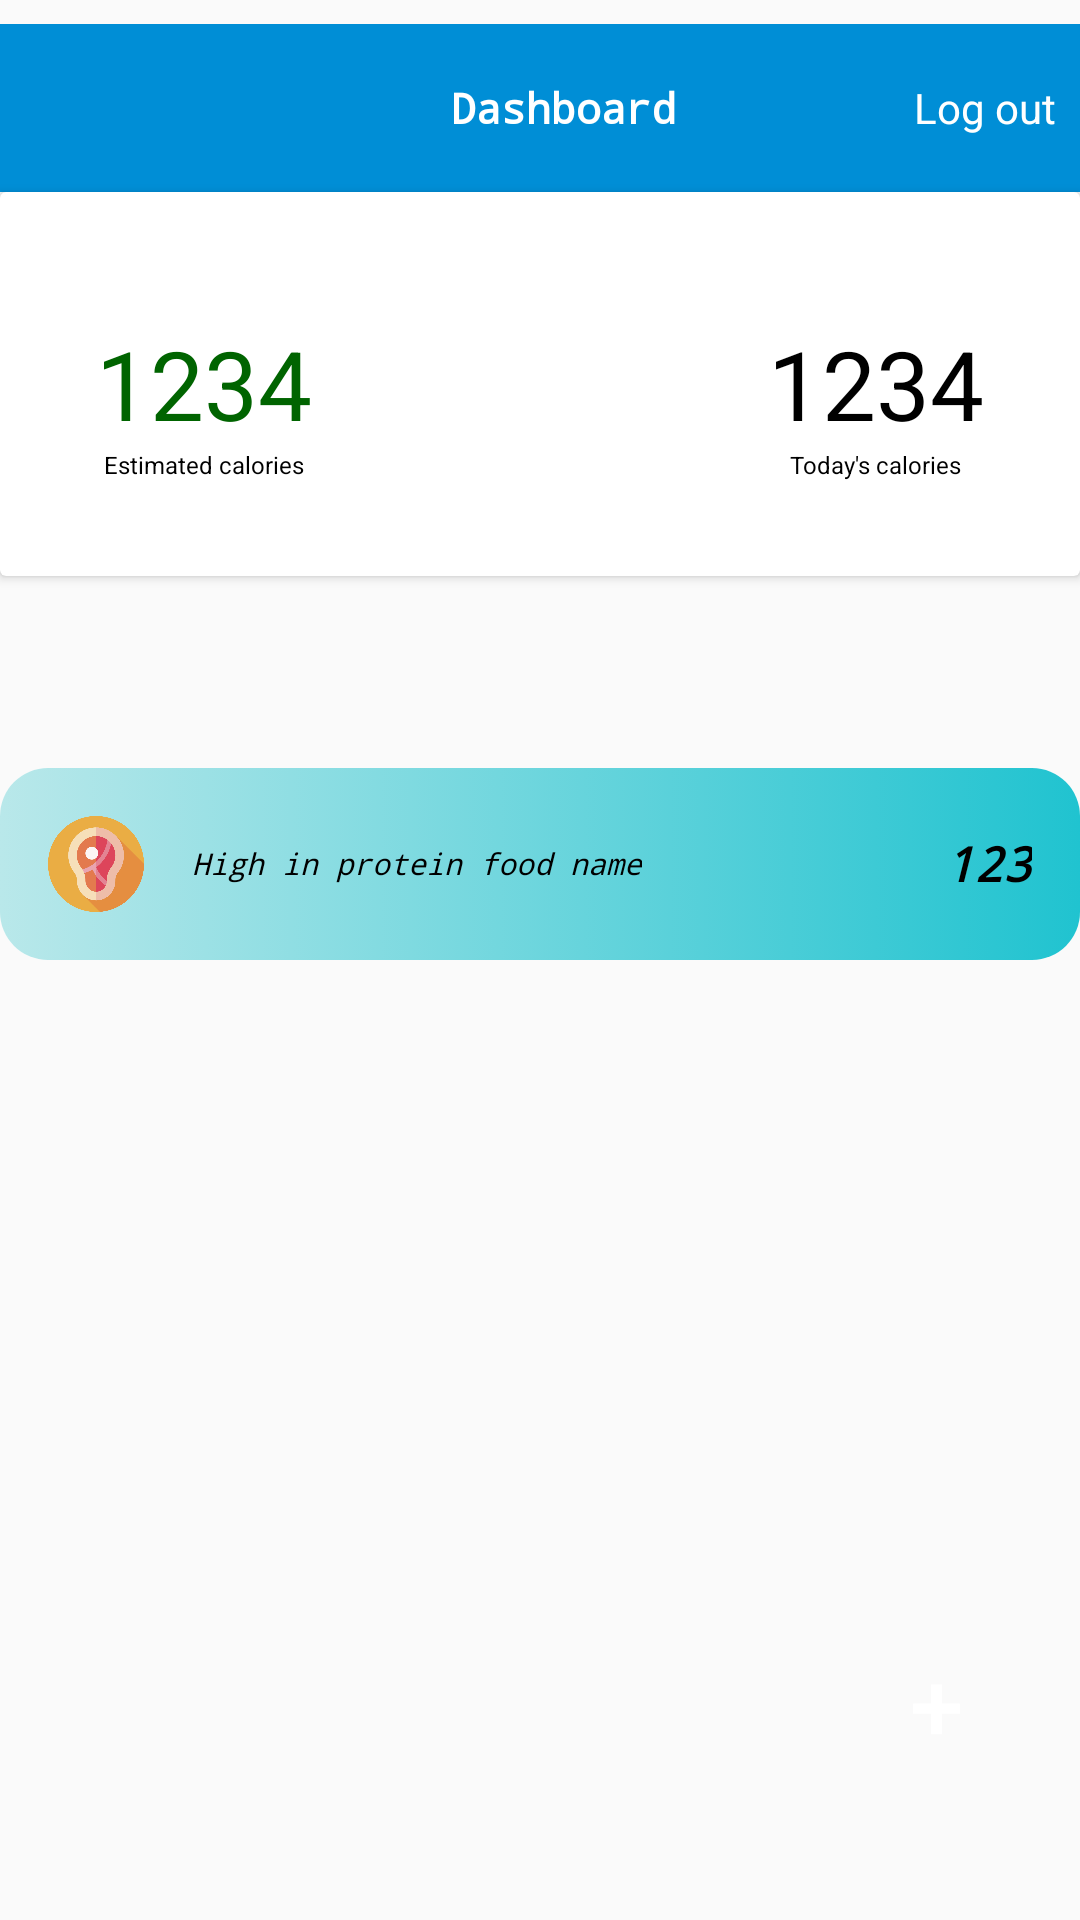

Named icons in this screenshot (1080x1920) and their centers, [x,y]:
proteinmeat: [96,864]
